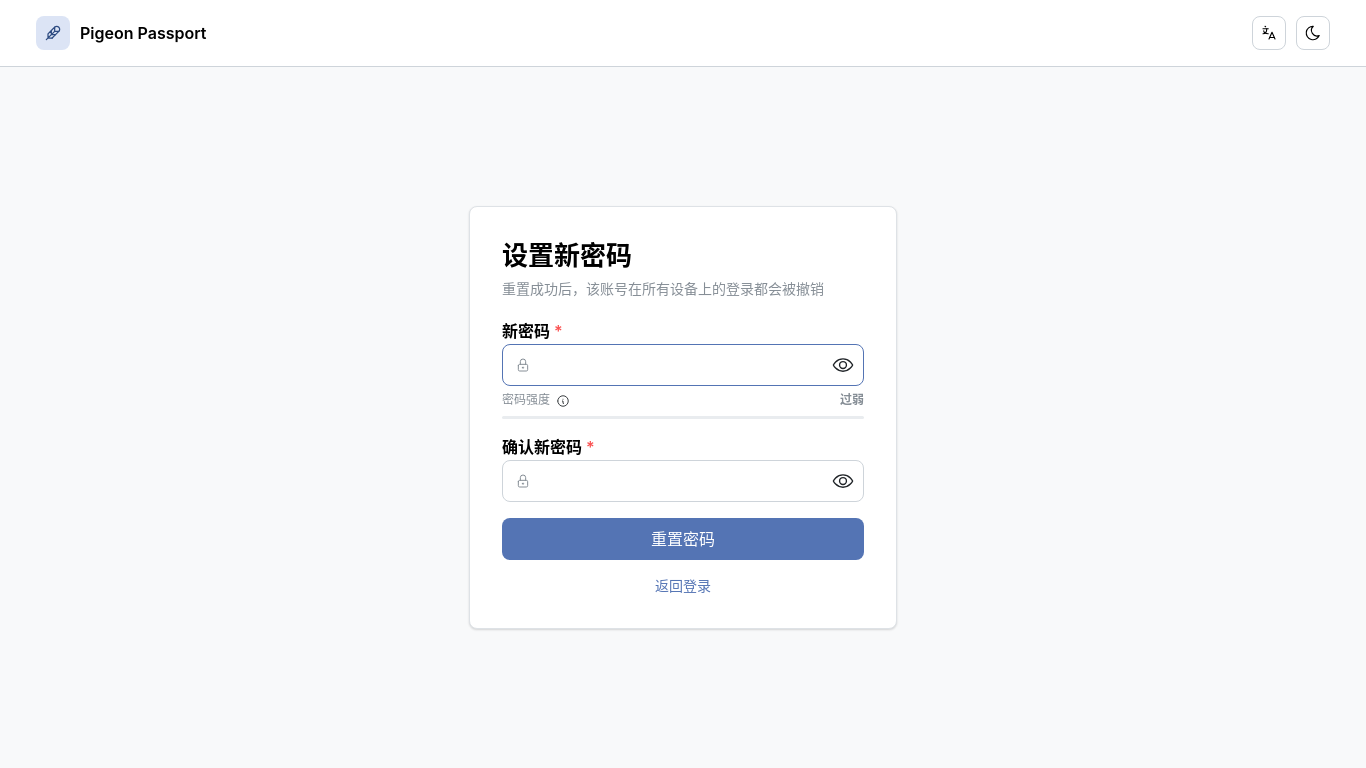
Test: ResetPasswordPage › resets the password and signs every session out
The width and height of the screenshot is (1366, 768).
In the password field labelled "新密码 *": (683, 365) [503,345,863,385], type "a-brand-new-secret"
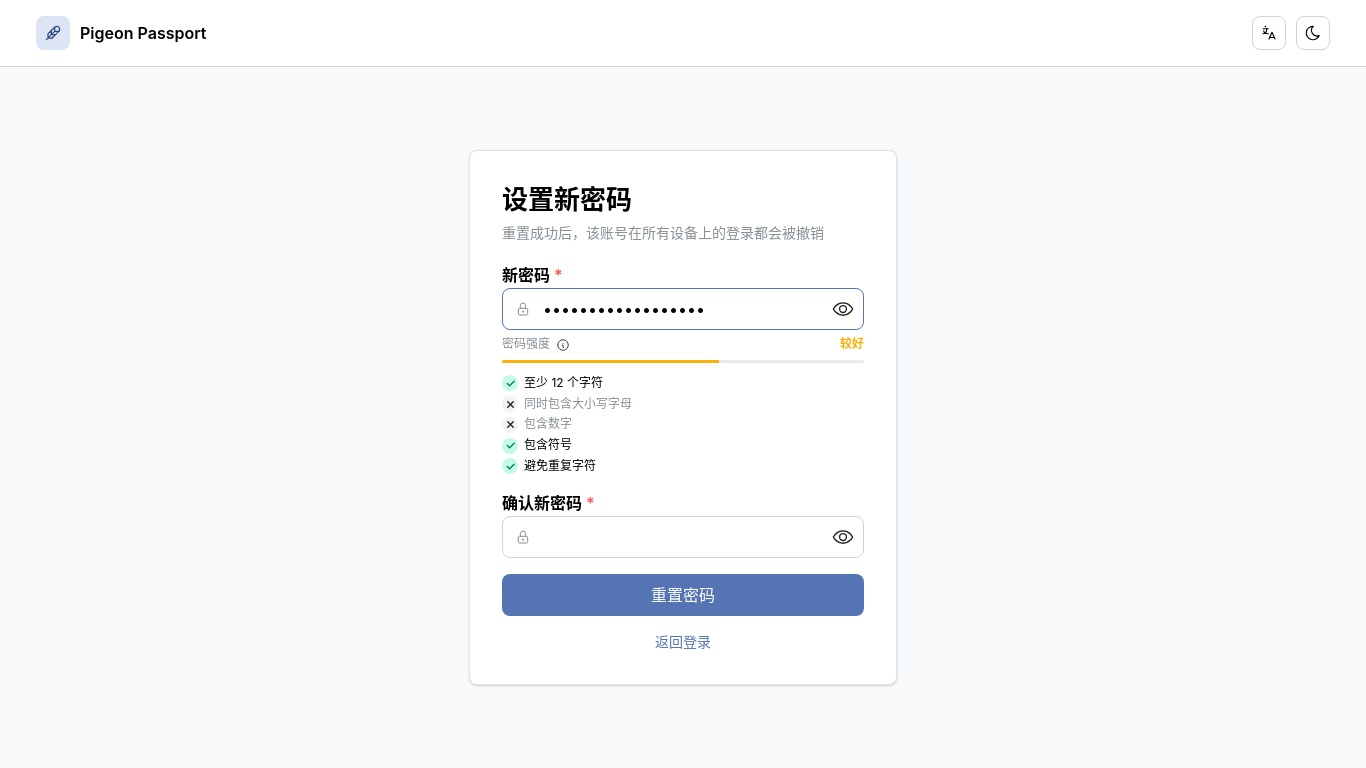
In the password field labelled "确认新密码 *": (683, 537) [503,517,863,557], type "a-brand-new-secret"
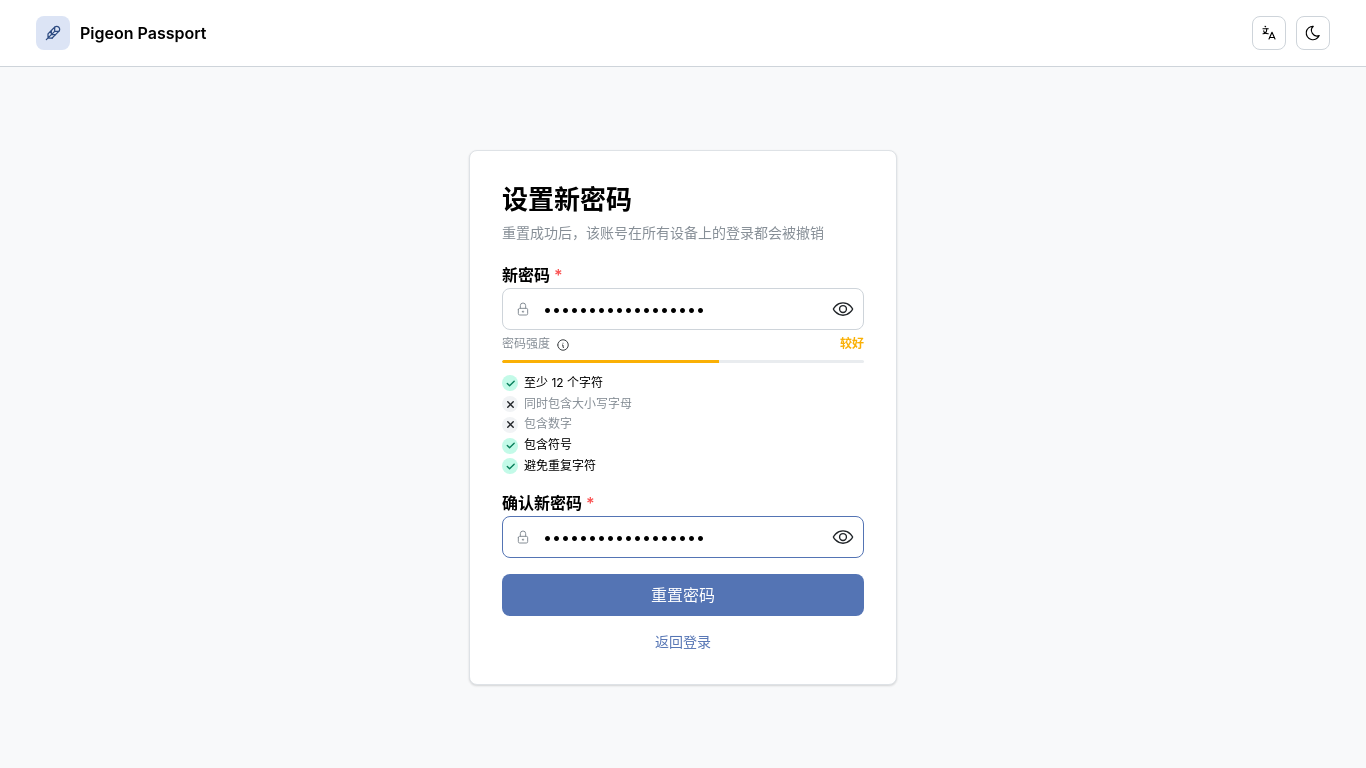
Click the button "重置密码": (683, 595) [502,574,864,616]
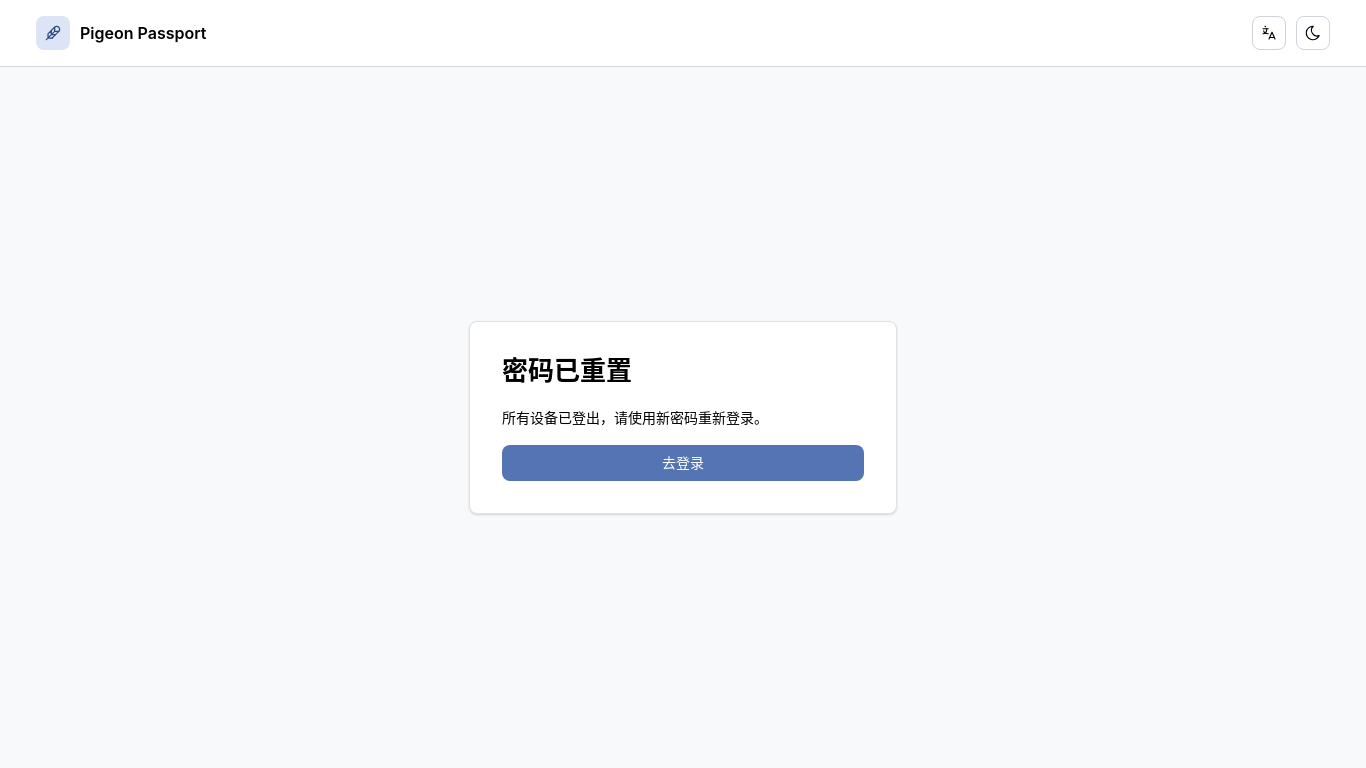
Result: the heading "密码已重置" is shown at [502,356,632,386]
Result: the text "所有设备已登出，请使用新密码重新登录。" is shown at [502,409,768,426]
